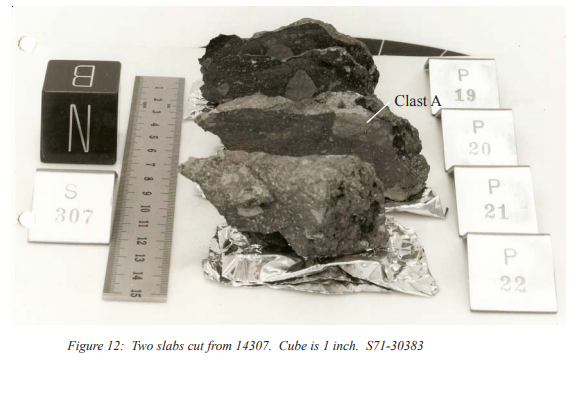Breccia: (182, 148, 401, 255), (190, 109, 425, 203), (196, 19, 399, 107)
